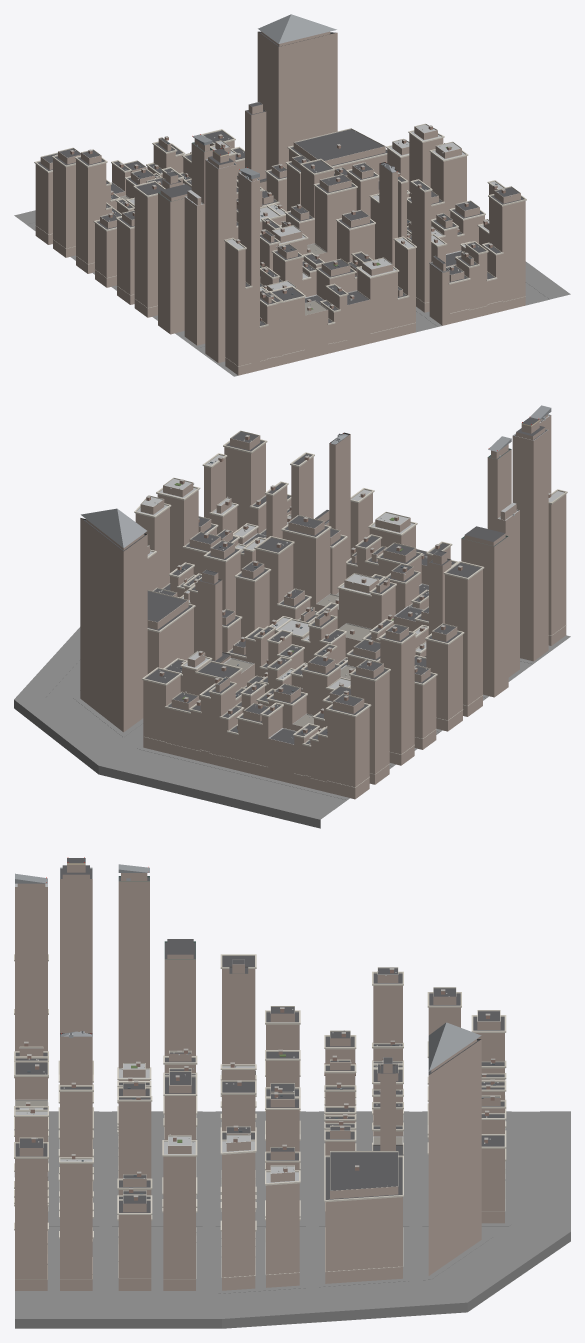
3 views of the same model, one above another, from view 1: azimuth 30°, elevation 25°; view 2: azimuth 150°, elevation 25°; view 3: azimuth 270°, elevation 25° (orthographic). The views are drawn at different scales.
Visible parts, largest first — view 1: t30_facade, t30_roof, t30_detail, t30_ground; view 2: t30_facade, t30_ground, t30_roof, t30_detail; view 3: t30_facade, t30_ground, t30_roof, t30_detail.
Boxes of the visible parts, box(x1,y1,x2,y2) form: t30_facade: box(35, 31, 525, 375); t30_roof: box(37, 14, 523, 325); t30_detail: box(34, 31, 526, 366); t30_ground: box(14, 210, 570, 376); t30_facade: box(80, 414, 566, 799); t30_ground: box(14, 627, 570, 828); t30_roof: box(81, 405, 563, 744); t30_detail: box(81, 414, 567, 787); t30_facade: box(15, 864, 504, 1290); t30_ground: box(15, 1111, 570, 1328); t30_roof: box(15, 857, 504, 1212); t30_detail: box(14, 867, 506, 1279).
Bounding box in the file's own units: 386 × 229 × 431.
